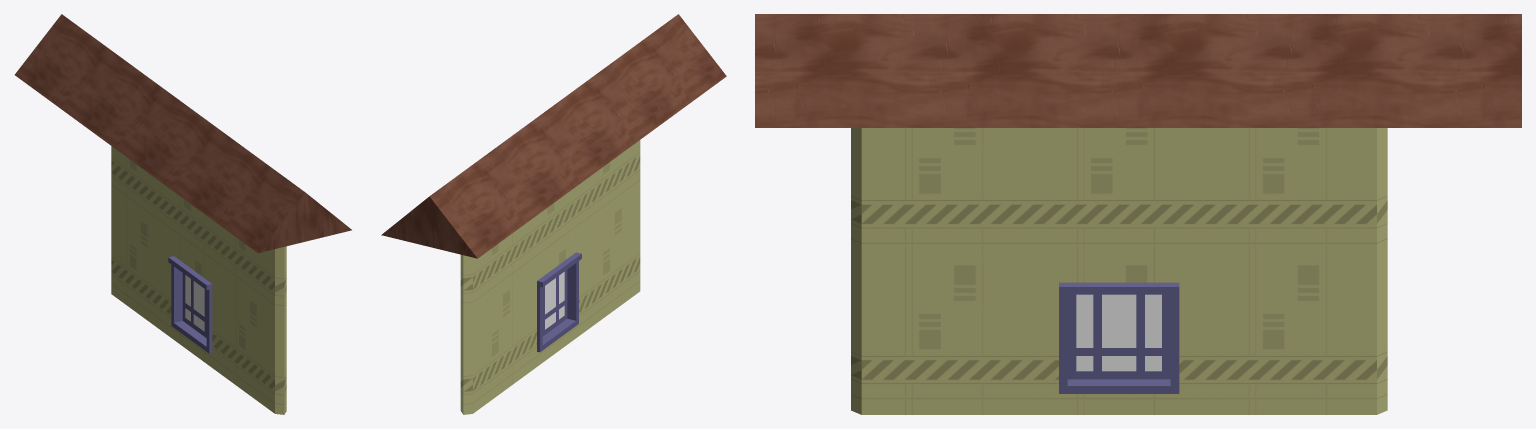
File: DummyWall4.glb
3 views of the same model, side by side, from view 1: azimuth 30°, elevation 25°; view 2: azimuth 150°, elevation 25°; view 3: azimuth 270°, elevation 25° (orthographic). The views are drawn at different scales.
Visible parts, largest first — view 1: mergedBlocks(Clone); view 2: mergedBlocks(Clone); view 3: mergedBlocks(Clone).
Boxes of the visible parts, x1=… form: mergedBlocks(Clone): x1=14, y1=14, x2=351, y2=414; mergedBlocks(Clone): x1=381, y1=14, x2=726, y2=414; mergedBlocks(Clone): x1=755, y1=14, x2=1521, y2=414.
Size of the model in its own units: 1 by 2.5 by 4.46.
Materials: 4 (2 with a texture image).
